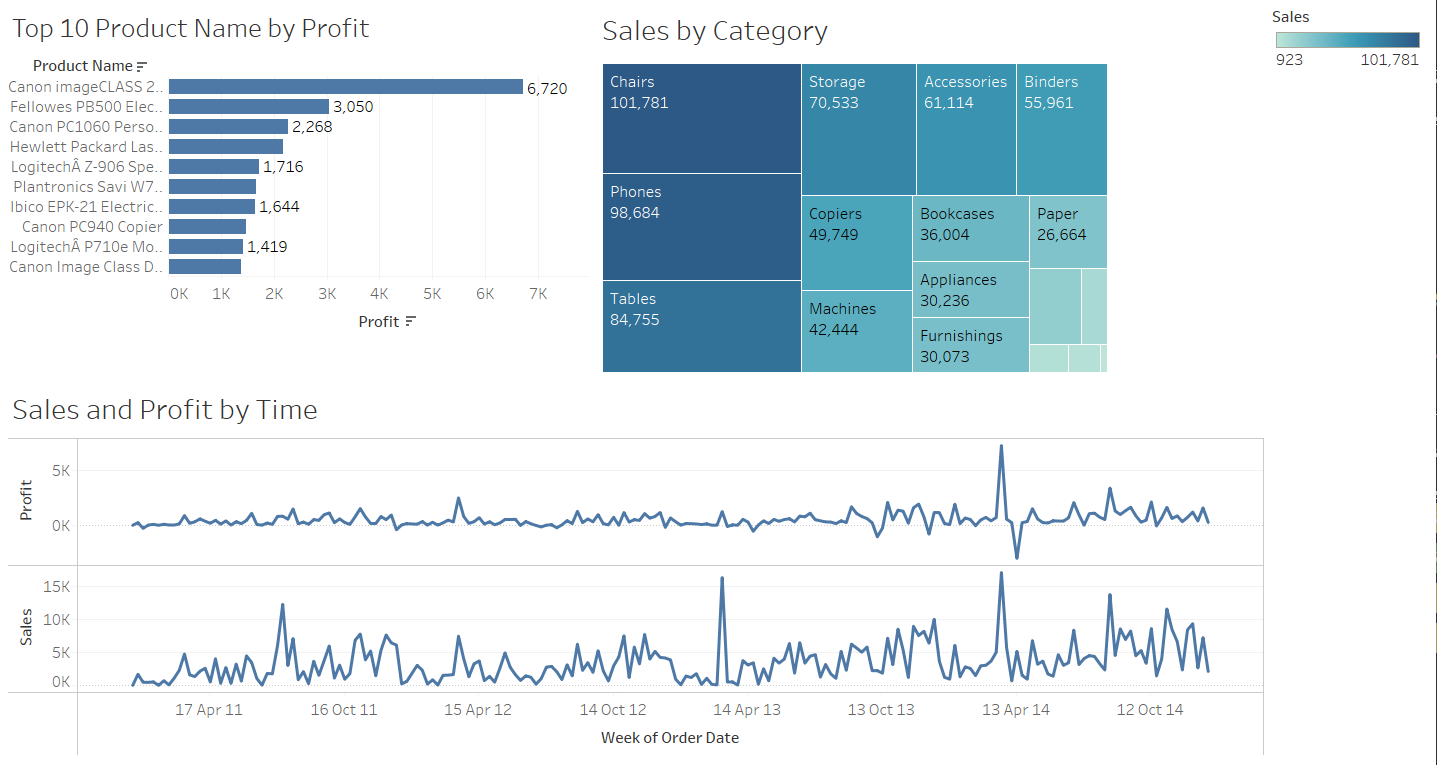

The page's visual inventory and layout, read from the dashboard file:
{"tool":"tableau","page":{"name":"Dashboard 1","canvas":[1000,1000],"units":"permille","ordinal":0},"visuals":[{"type":"worksheet","title":"Sheet 2","mark":"Automatic","rows":["Product Name"],"cols":["Profit"],"box":[4.8,8.8,487,491.2]},{"type":"worksheet","title":"Sheet 1","mark":"Automatic","box":[491.9,8.8,406.8,491.2]},{"type":"legend","title":"Sheet 1","param":"[federated.076nepw0z7lq2j197p7j01hezbxk].[sum:Sales:qk]","box":[898.6,8.8,96.6,80.1]},{"type":"worksheet","title":"Sheet 3","mark":"Automatic","rows":["Profit","Sales"],"cols":["Order Date"],"box":[4.8,500,893.8,491.2]}]}

Visuals, with their boxes on the dashboard's canvas, which has no fixed pixel size, in thousandths of its width and height (x1, y1, x2, y2). These are canvas units, not pixel positions in the 1437x765 screenshot, which may show the page scaled, cropped or inside an application window:
"Sheet 2" worksheet: x1=5, y1=9, x2=492, y2=500
"Sheet 1" worksheet: x1=492, y1=9, x2=899, y2=500
"Sheet 1" legend: x1=899, y1=9, x2=995, y2=89
"Sheet 3" worksheet: x1=5, y1=500, x2=899, y2=991
